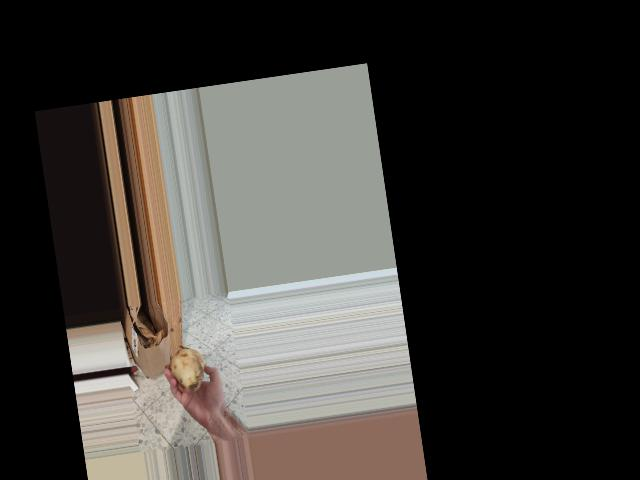onion: (163, 342, 210, 397)
